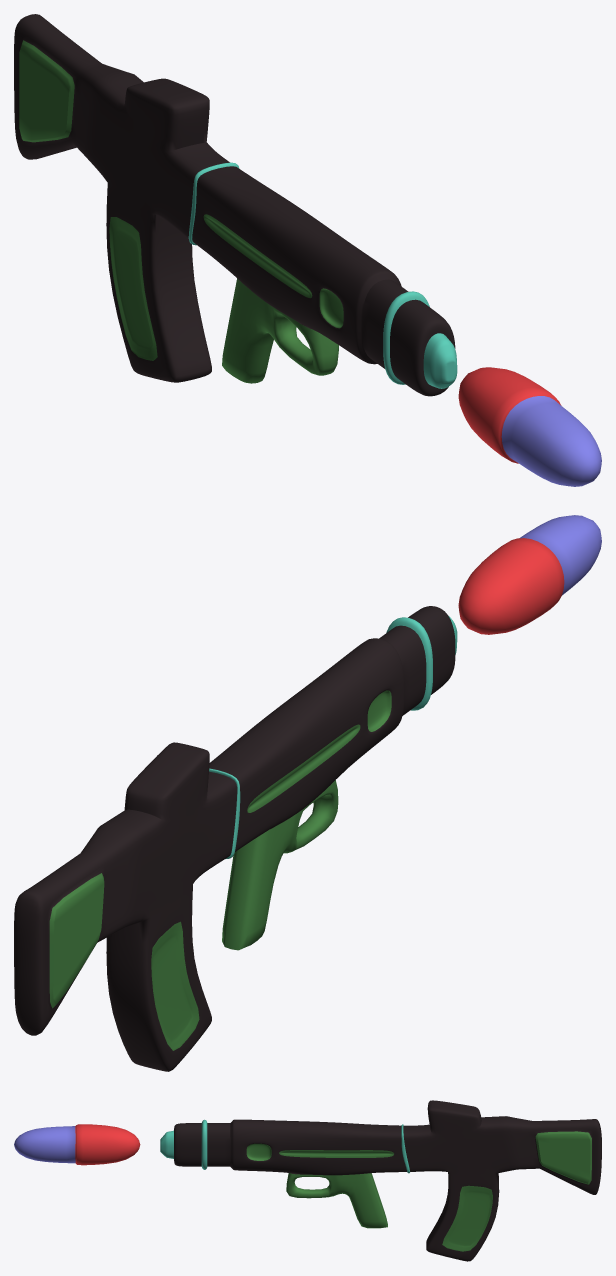
The model's file is Mind Roots Silah ve Hap.fbx.
3 renders of one model, top to bottom at view 1: azimuth 30°, elevation 25°; view 2: azimuth 150°, elevation 25°; view 3: azimuth 270°, elevation 25°, orthographic. The views are drawn at different scales.
Parts seen in each view (by area): view 1: silah, hap; view 2: silah, hap; view 3: silah, hap.
Part boxes in pixels (x1,y1,x2,y2): silah: (14,14,457,396); hap: (458,367,601,486); silah: (14,606,457,1071); hap: (458,515,601,634); silah: (160,1100,601,1261); hap: (14,1124,140,1165).
Size of the model in its own units: 15.52 by 64.66 by 225.
